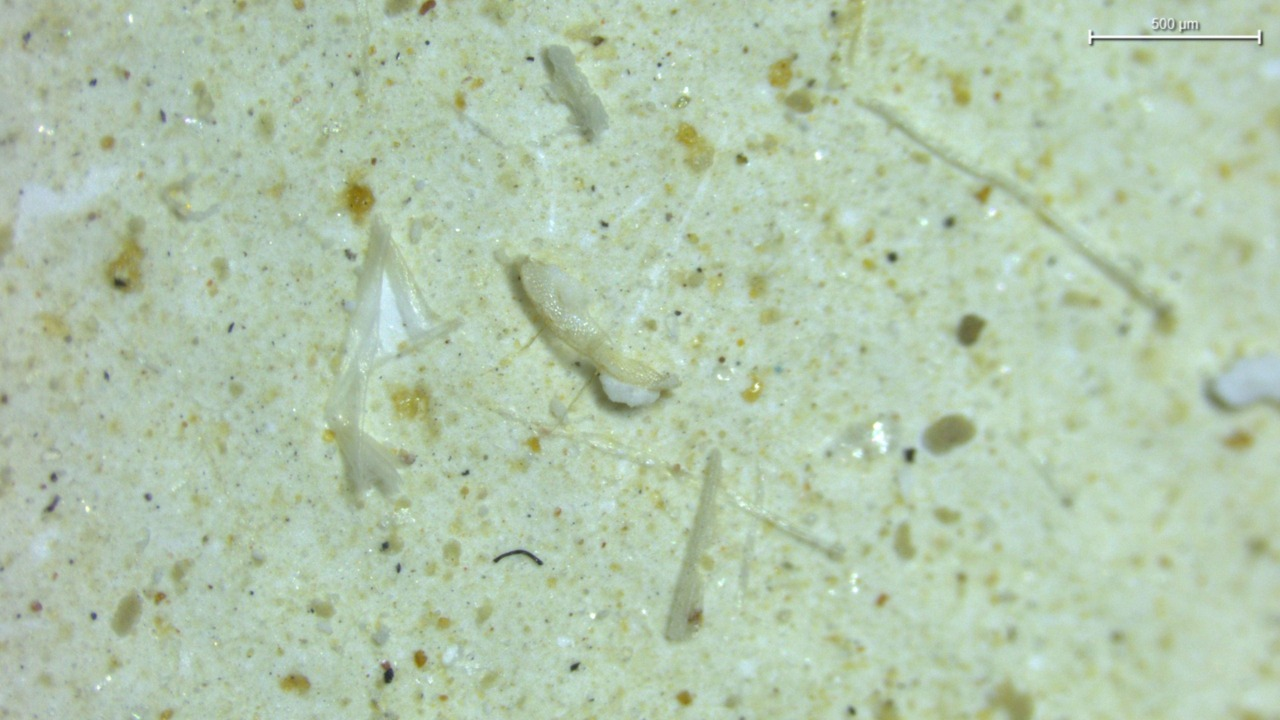microplastic_fragment: (326, 215, 458, 494), (520, 261, 678, 406)
